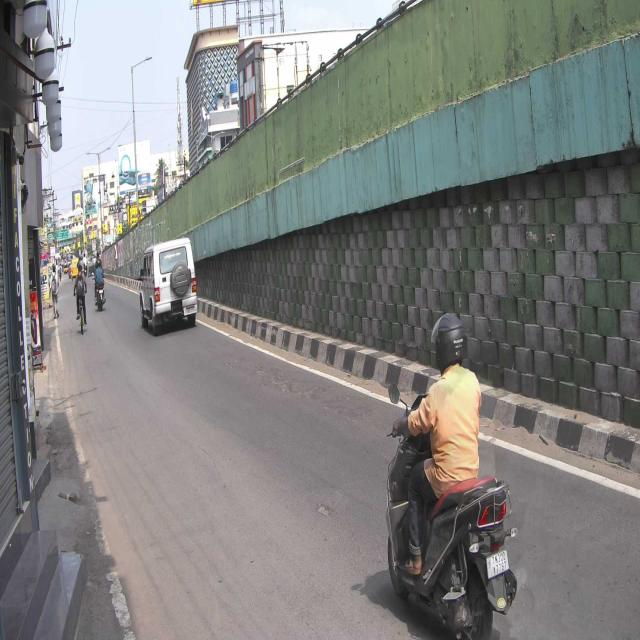single_rider: (387, 306, 517, 640)
